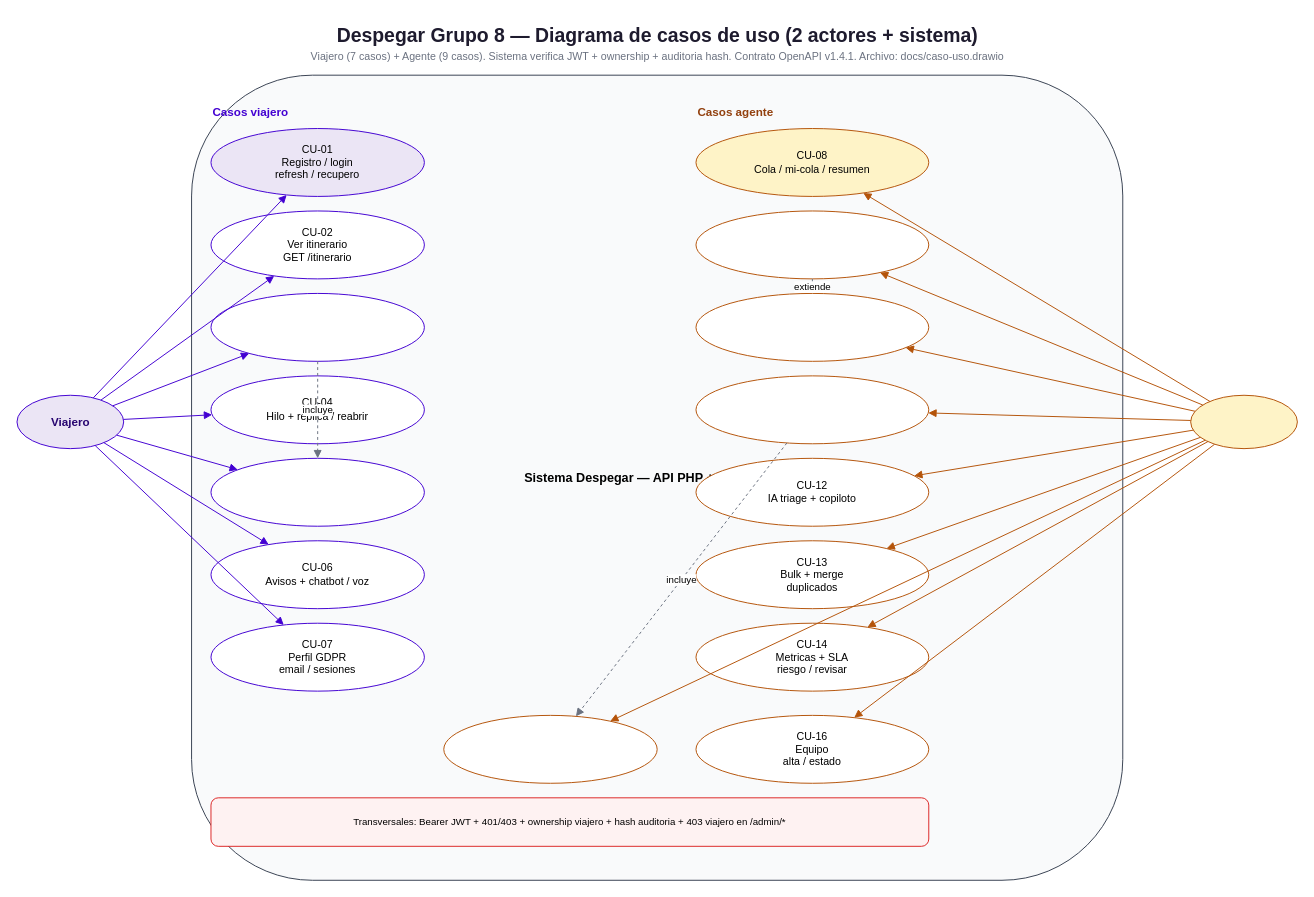
This 1314x897 diagram has some shape labels left out. The box of each missing label's shape, as (x1, y1, x2, y2) in pixels:
Agente: (1190, 394, 1297, 449)
CU-03 Reportar incidente POST /incidentes: (210, 292, 424, 361)
CU-05 Adjuntos + OCR + resumen: (210, 457, 424, 526)
CU-09 Claim / release derivar / seguir: (695, 210, 929, 279)
CU-10 Triaje + SLA PUT prioridad/estado: (695, 292, 929, 361)
CU-11 Responder publica / interna: (695, 375, 929, 444)
CU-15 Auditoria verificar / resellar: (443, 714, 657, 783)
